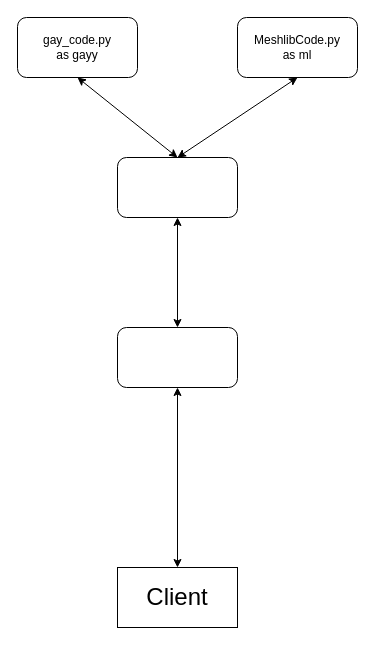
Image size: 375x645. Some labels were removed from this diagram. Here are the shapes that lost their labels. From the top down, the centre of each, then its label:
At point 177,187: "Cleaned.py as clean_c ode".
At point 177,357: "App.p y".
